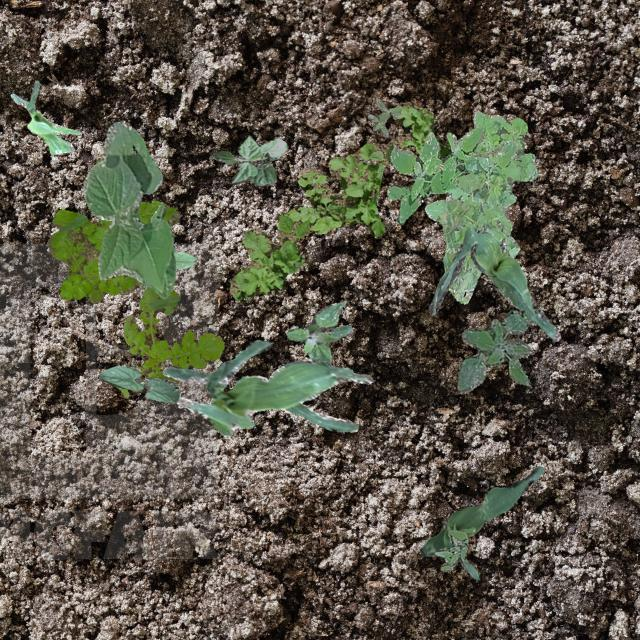crop: (162, 338, 372, 436), (82, 120, 174, 298), (428, 226, 560, 340), (418, 466, 542, 578), (10, 80, 80, 154), (210, 134, 286, 184), (98, 364, 178, 402), (172, 250, 195, 268)
weed: (228, 100, 450, 300), (424, 110, 536, 302), (46, 200, 178, 302), (386, 126, 518, 222), (118, 286, 224, 396), (456, 308, 534, 392), (286, 300, 350, 362), (434, 528, 468, 570), (366, 98, 401, 136), (148, 203, 164, 220)
